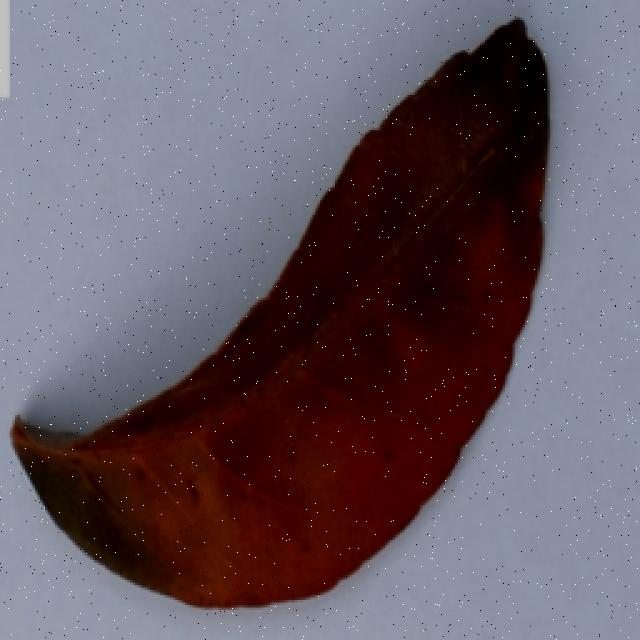greening: (11, 19, 568, 613)
